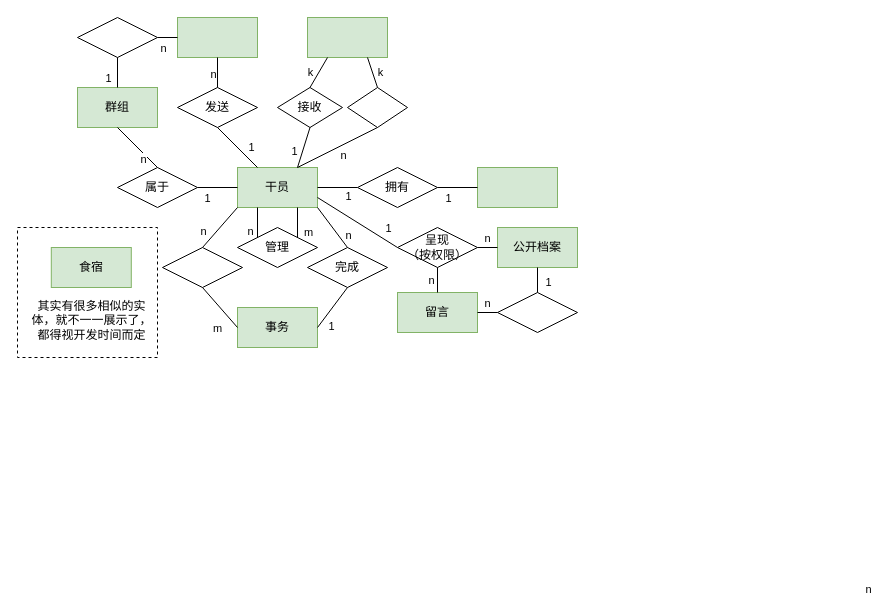
Image size: 888x613. Some labels were removed from this diagram. Each missing label, with the box of its shape:
依附: (496, 292, 578, 332)
发布: (346, 86, 408, 128)
呈现: (76, 16, 158, 58)
安排: (162, 246, 242, 288)
情报通告: (306, 16, 388, 58)
消息: (176, 16, 258, 58)
账户: (476, 166, 558, 208)
